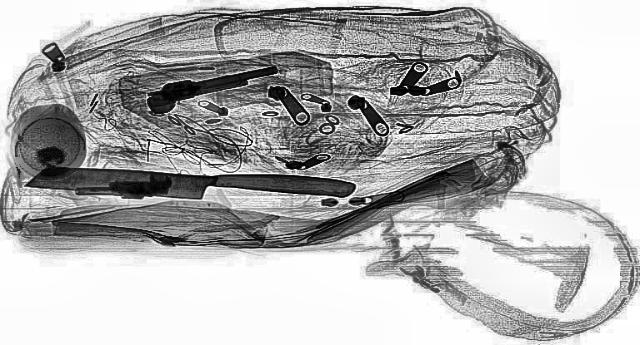Gun: (134, 62, 292, 114)
Knife: (23, 161, 355, 207)
